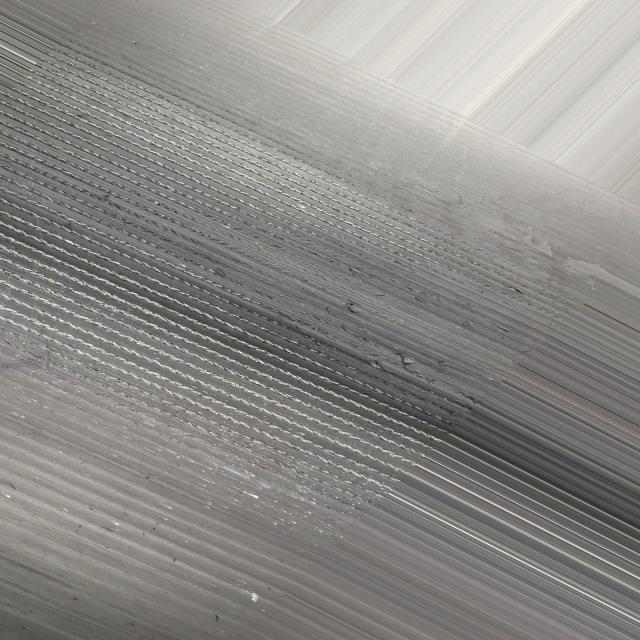Wear: (0, 49, 562, 542)
